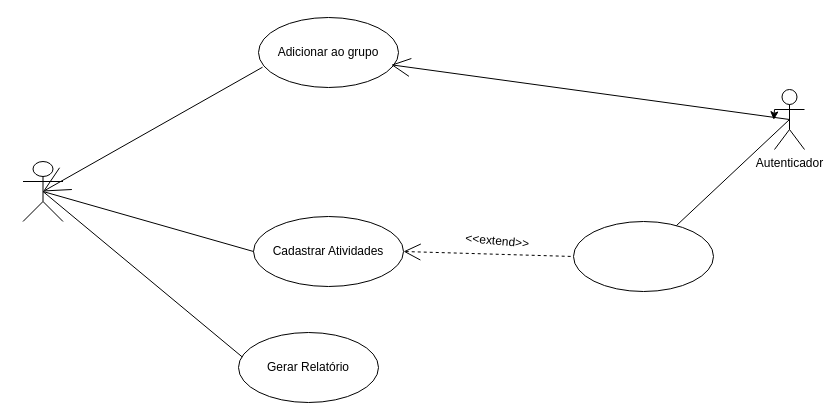
Some shapes in this 840 by 420 pixel diagram are drawn without their labels. Here are the shapes that lost their labels. From the top down, the centre of each, then its label:
the point at 42,191: Usuário
the point at 643,256: Autenticar Horas
